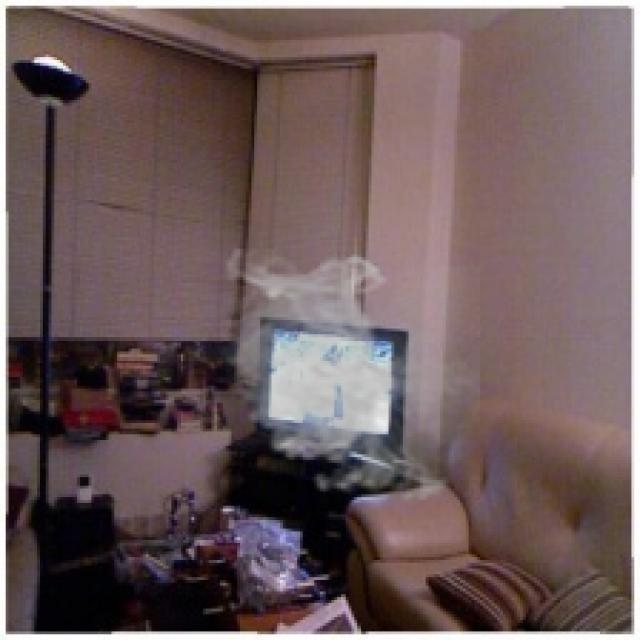Smoke: (217, 248, 480, 508)
